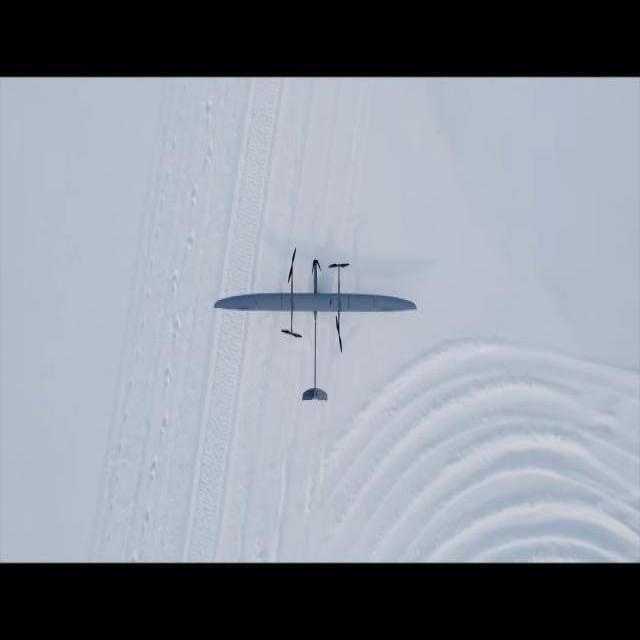iha: (206, 241, 421, 400)
